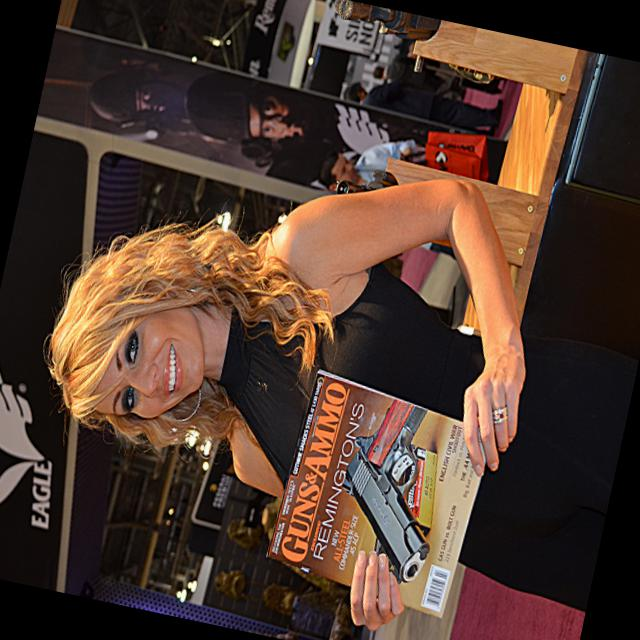handgun: (326, 432, 456, 592)
